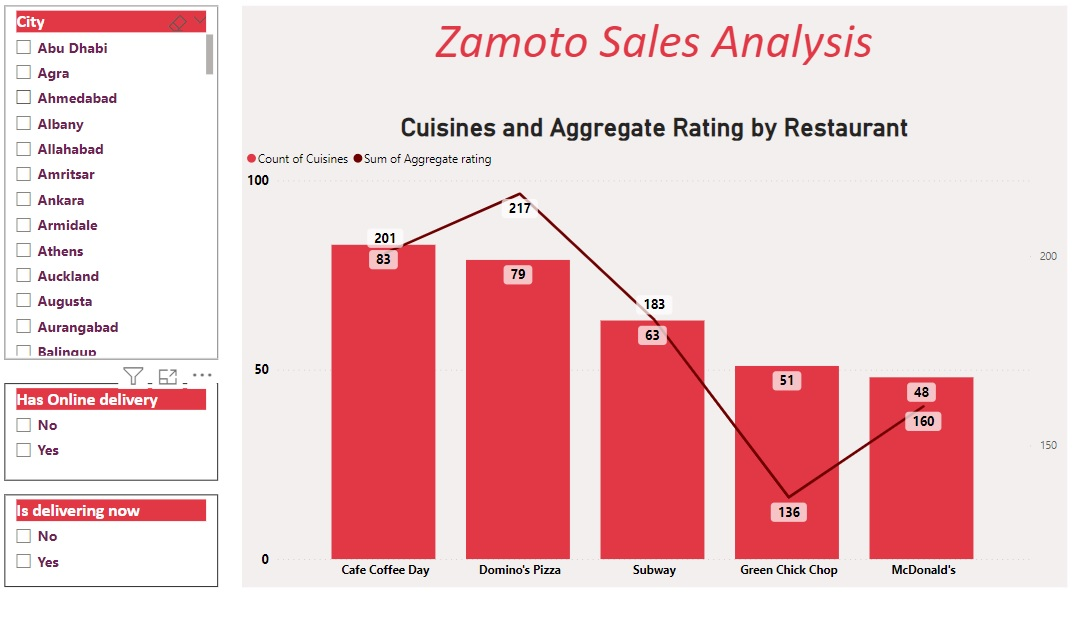

What the dashboard file says about the page in this screenshot:
{"tool":"powerbi","page":{"name":"Insights","canvas":[1280,720],"ordinal":0},"visuals":[{"type":"textbox","box":[297.1,27.1,942.9,121.4],"z":0},{"type":"slicer","fields":{"Values":["Clean Zamoto Data.Has Online delivery"]},"box":[25.7,458.6,244.3,111.4],"z":1000},{"type":"slicer","fields":{"Values":["Clean Zamoto Data.Is delivering now"]},"box":[25.7,585.7,244.3,105.7],"z":2000},{"type":"slicer","fields":{"Values":["Clean Zamoto Data.City"]},"box":[25.7,27.1,244.3,404.3],"z":3000},{"type":"lineStackedColumnComboChart","title":"Cuisines and Aggregate Rating by Restaurant","fields":{"Category":["Clean Zamoto Data.Restaurant Name"],"Y":["CountNonNull(Clean Zamoto Data.Cuisines)"],"Y2":["Sum(Clean Zamoto Data.Aggregate rating)"]},"box":[297.1,148.6,942.9,542.9],"z":4000}]}

Visuals, with their boxes on the page's 1280x720 design canvas (x1, y1, x2, y2). These are canvas units, not pixel positions in the 1074x644 screenshot, which may show the page scaled, cropped or inside an application window:
textbox: left=297, top=27, right=1240, bottom=148
slicer - Clean Zamoto Data.Has Online delivery: left=26, top=459, right=270, bottom=570
slicer - Clean Zamoto Data.Is delivering now: left=26, top=586, right=270, bottom=691
slicer - Clean Zamoto Data.City: left=26, top=27, right=270, bottom=431
"Cuisines and Aggregate Rating by Restaurant" lineStackedColumnComboChart: left=297, top=149, right=1240, bottom=692
